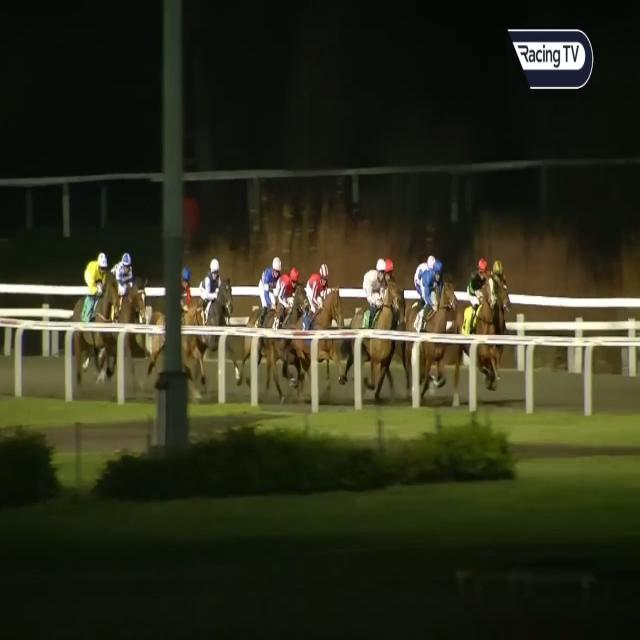horses-racing: (404, 262, 459, 406), (257, 259, 305, 398), (455, 255, 491, 403), (97, 241, 145, 348), (239, 250, 287, 357), (165, 256, 205, 372), (372, 248, 407, 375), (304, 257, 339, 377), (75, 252, 111, 361), (356, 257, 385, 392), (202, 250, 232, 379), (406, 245, 437, 319), (484, 254, 512, 331)
